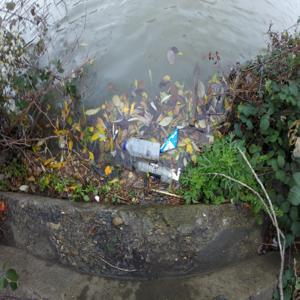plastic: (159, 121, 186, 156)
plastic bottle: (129, 160, 189, 187), (119, 133, 163, 161)
